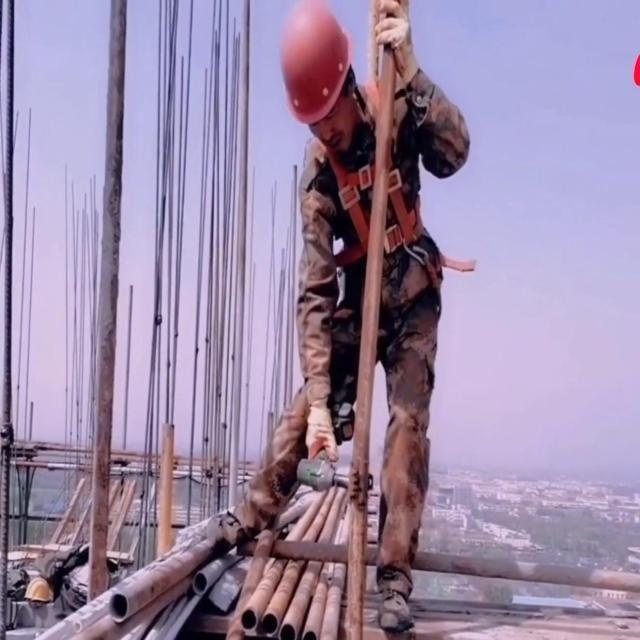Arnes_seguridad: (301, 76, 426, 272)
